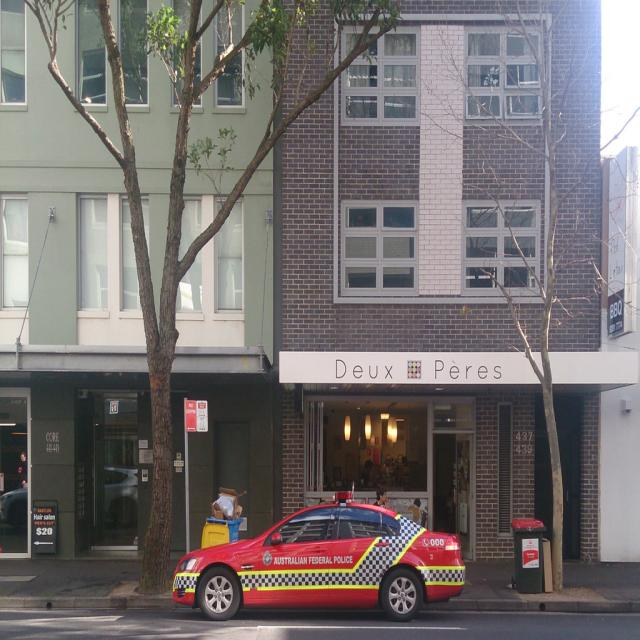car: (178, 494, 457, 621)
